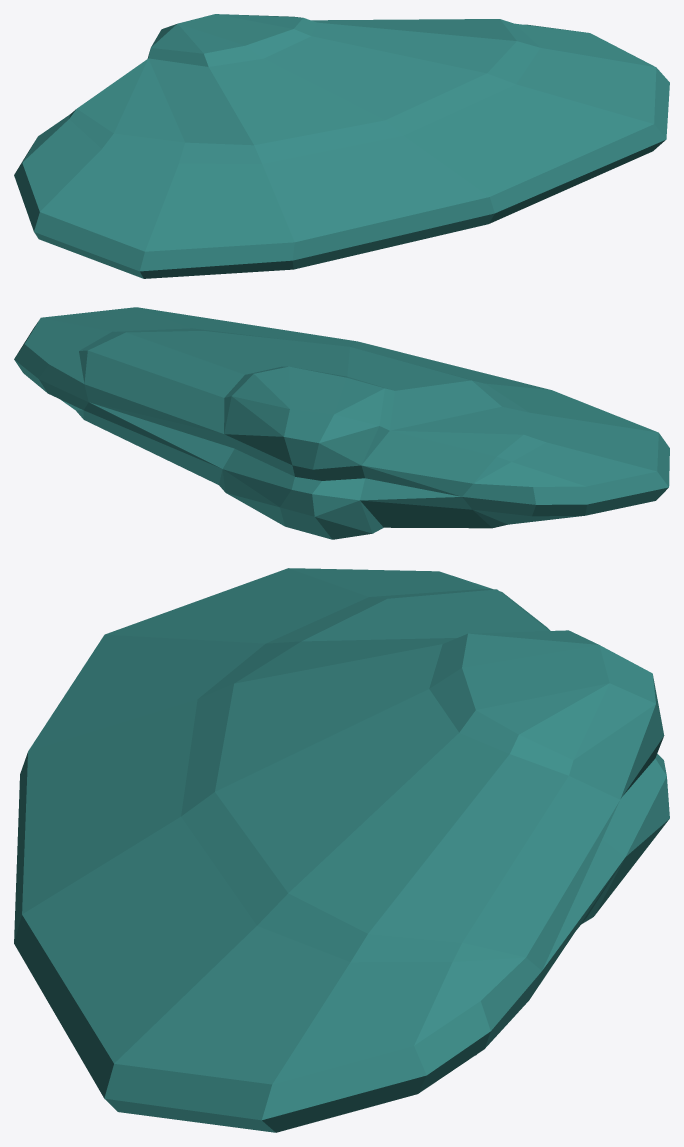
The model's file is SM_Sea_Shell_Sunrise_Venus_Closed_A.fbx.
3 views of the same model, one above another, from view 1: azimuth 30°, elevation 25°; view 2: azimuth 150°, elevation 25°; view 3: azimuth 270°, elevation 25° (orthographic). The views are drawn at different scales.
Visible parts, largest first — view 1: sea-shell-sunrise-venus-closed-a; view 2: sea-shell-sunrise-venus-closed-a; view 3: sea-shell-sunrise-venus-closed-a.
Part boxes in pixels (box(x1,y1,x2,y2)): sea-shell-sunrise-venus-closed-a: box(14, 14, 669, 278); sea-shell-sunrise-venus-closed-a: box(14, 307, 669, 539); sea-shell-sunrise-venus-closed-a: box(14, 568, 669, 1132).
Size of the model in its own units: 0.1688 by 0.0347 by 0.0882.
